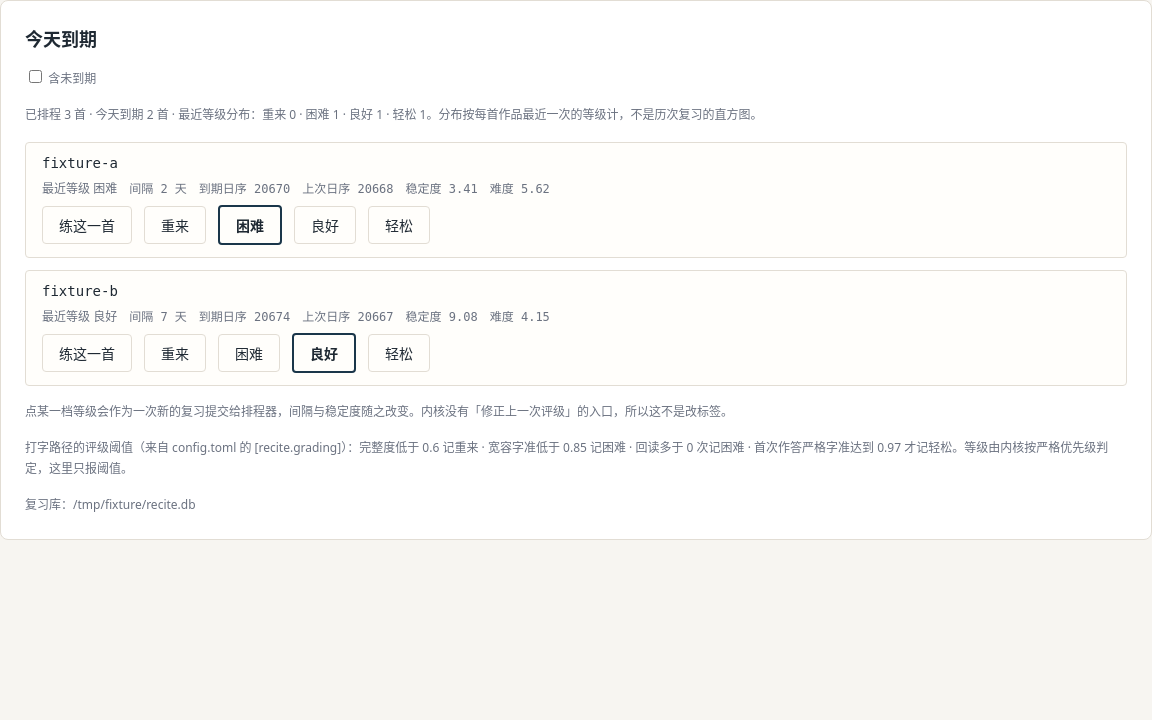
复习队列 › 含未到期开关切到 `--all` 那一份载荷
Expected: the number of list items with test id "queue-item" is 2, [25,142,1127,258]; [25,270,1127,386]
Click the checkbox with test id "include-future" at (36, 76), box [29,70,42,83]
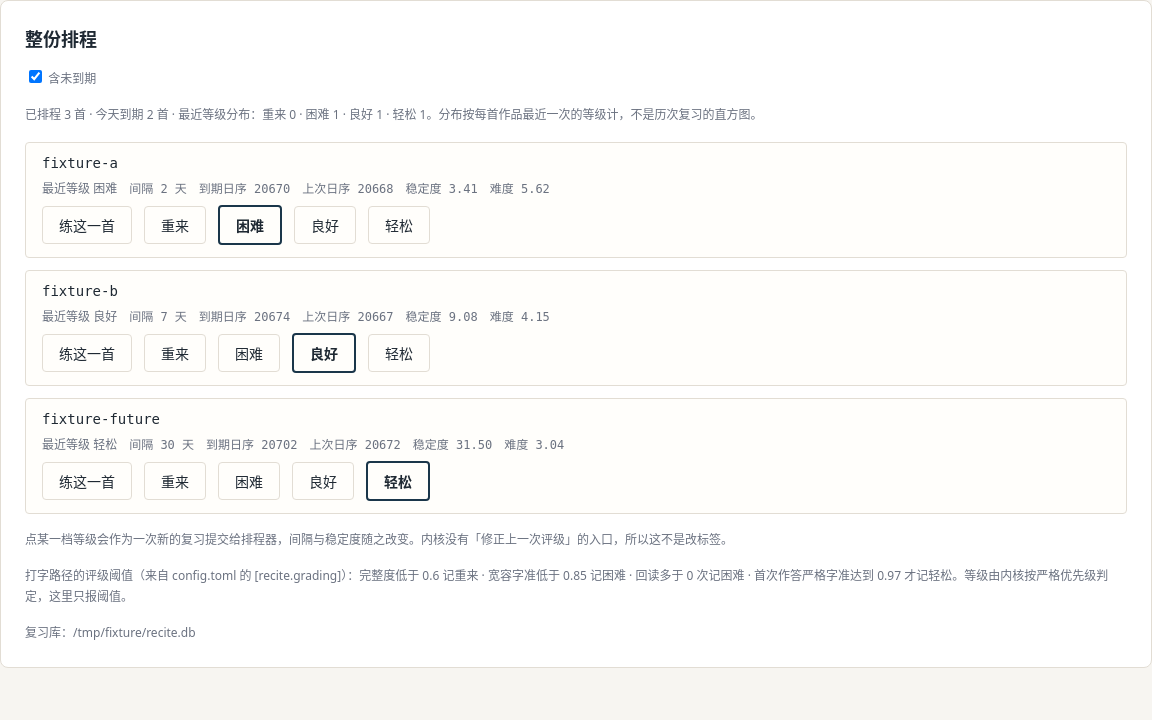
Expected: the number of list items with test id "queue-item" is 3, [25,142,1127,258]; [25,270,1127,386]; [25,398,1127,514]
Expected: the text with test id "queue-grade-fixture-future" shows "轻松", [93,436,117,453]
